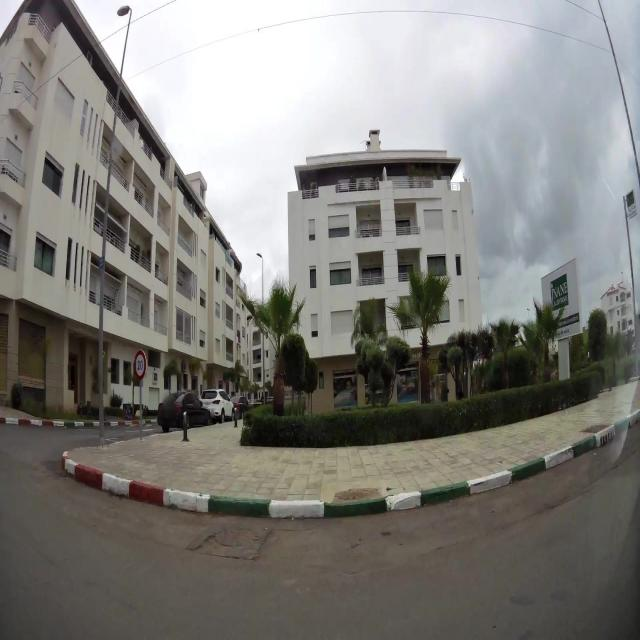car: (156, 389, 211, 431), (200, 388, 235, 423)
